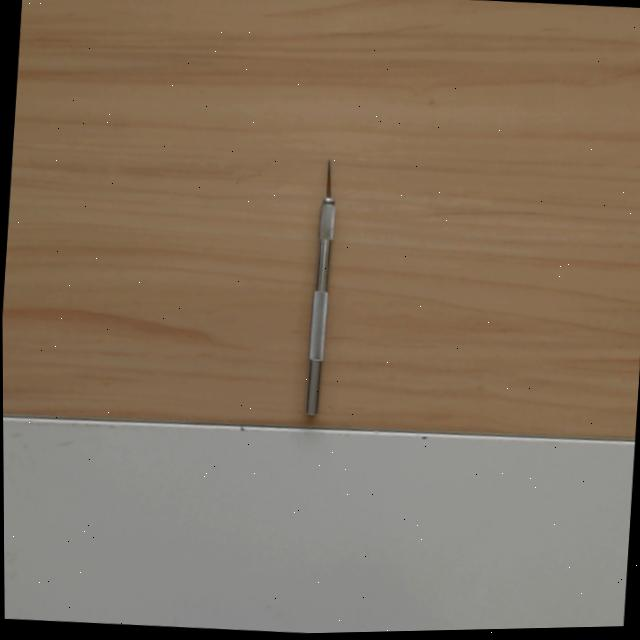Cutter-Kecil: (303, 160, 340, 416)
